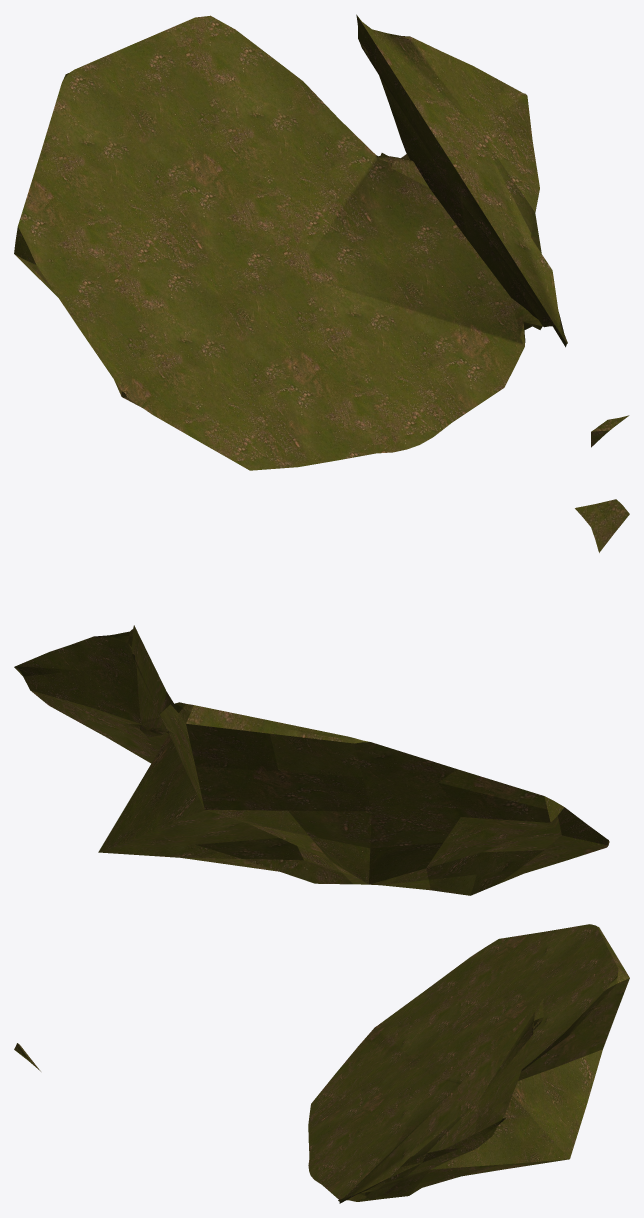
File: outcrop_1.glb
3 renders of one model, top to bottom at view 1: azimuth 30°, elevation 25°; view 2: azimuth 150°, elevation 25°; view 3: azimuth 270°, elevation 25°, orthographic. The views are drawn at different scales.
Parts seen in each view (by area): view 1: outcrop; view 2: outcrop; view 3: outcrop.
Part boxes in pixels (x1=…): outcrop: x1=14, y1=14, x2=629, y2=470; outcrop: x1=14, y1=499, x2=629, y2=895; outcrop: x1=14, y1=924, x2=629, y2=1203.
Bounding box in the file's own units: 4.28 × 2.32 × 6.05.
1 material, 1 textured.
